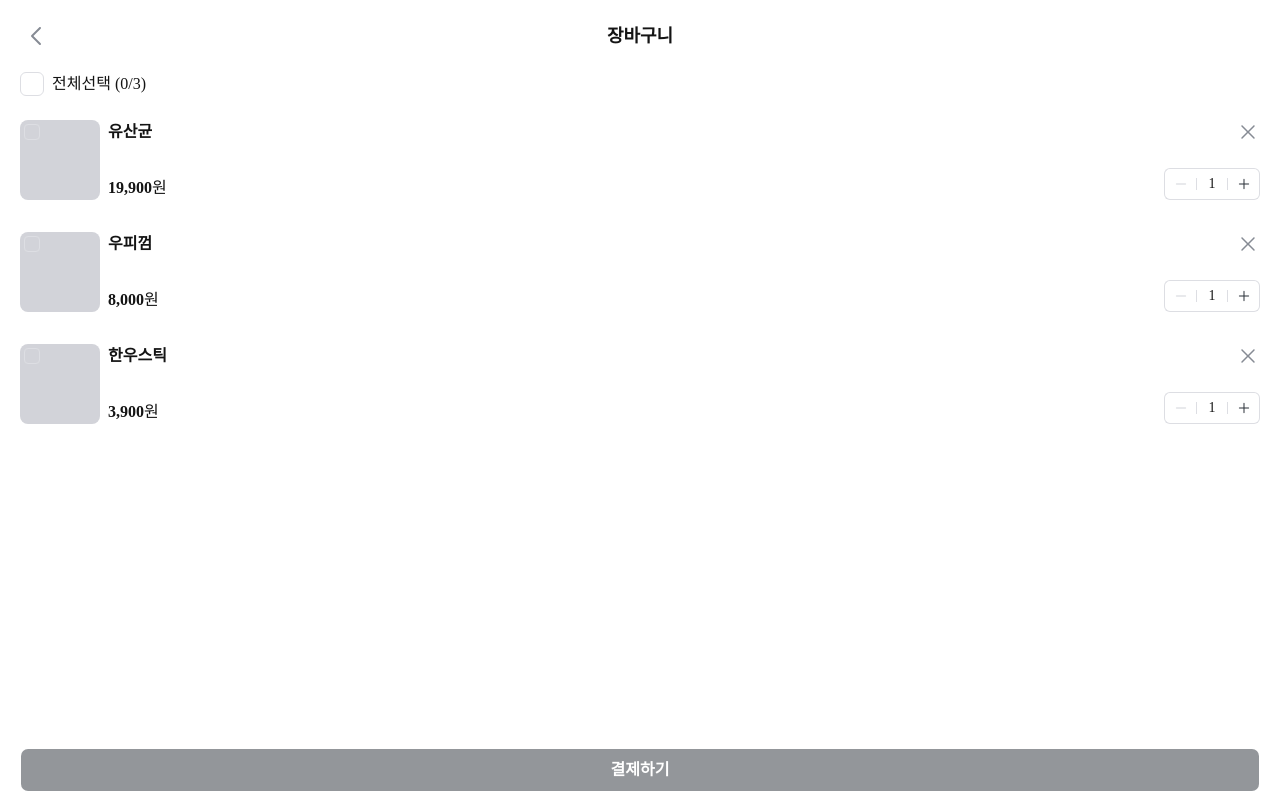
Test case: CartView › 전체선택으로 한 번에 고르고 푼다
The width and height of the screenshot is (1280, 812).
Click the checkbox named "전체선택 (0/3)" at (32, 84), box [20,72,44,96]
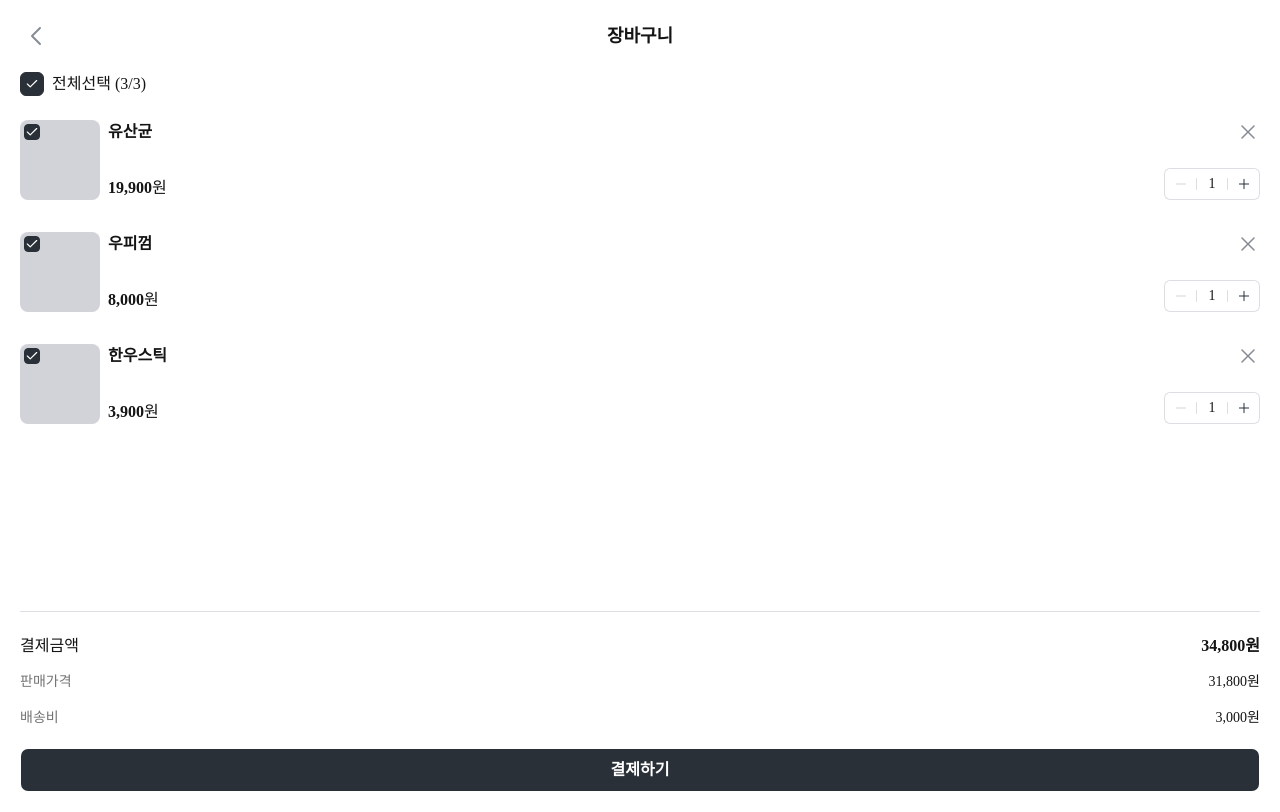
Result: the text "전체선택 (3/3)" is shown at [52,72,146,96]
Result: the text "34,800원" is shown at [1201,637,1260,654]
